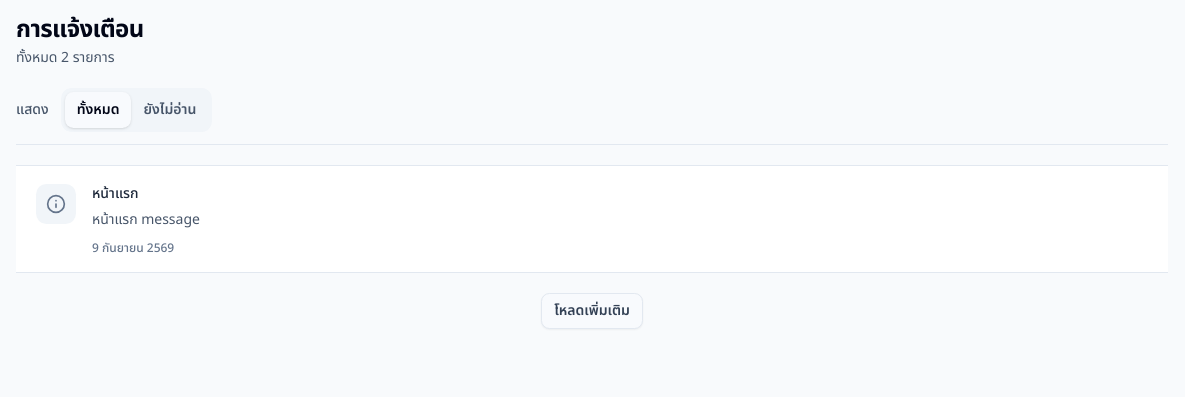
Test: NotificationsSection history pagination › passes an opaque cursor to Load More and appends the next page
Expected: the text "หน้าแรก" is shown, [92, 183, 138, 204]
Click the button "โหลดเพิ่มเติม" at [592, 311], box [541, 293, 643, 329]
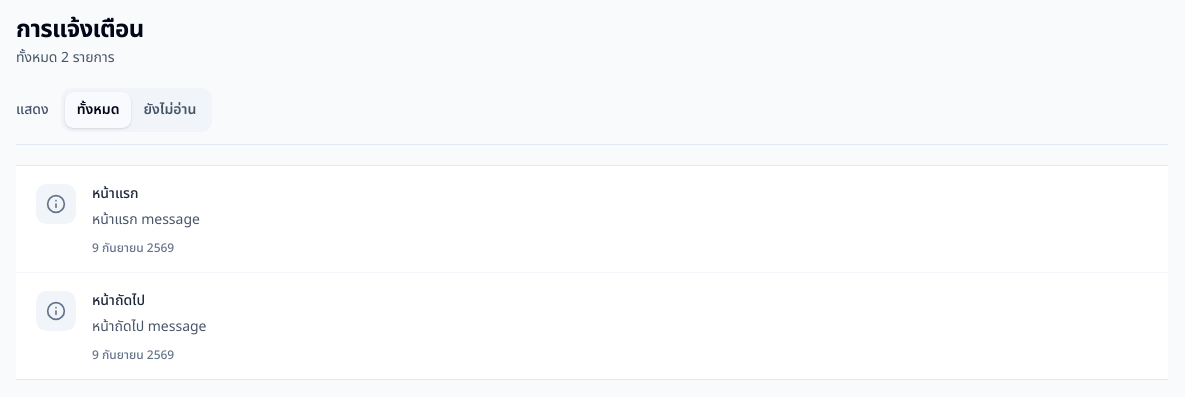
Expected: the text "หน้าแรก" is shown, [92, 183, 138, 204]
Expected: the text "หน้าถัดไป" is shown, [92, 290, 145, 311]
Expected: the button "โหลดเพิ่มเติม" is gone
